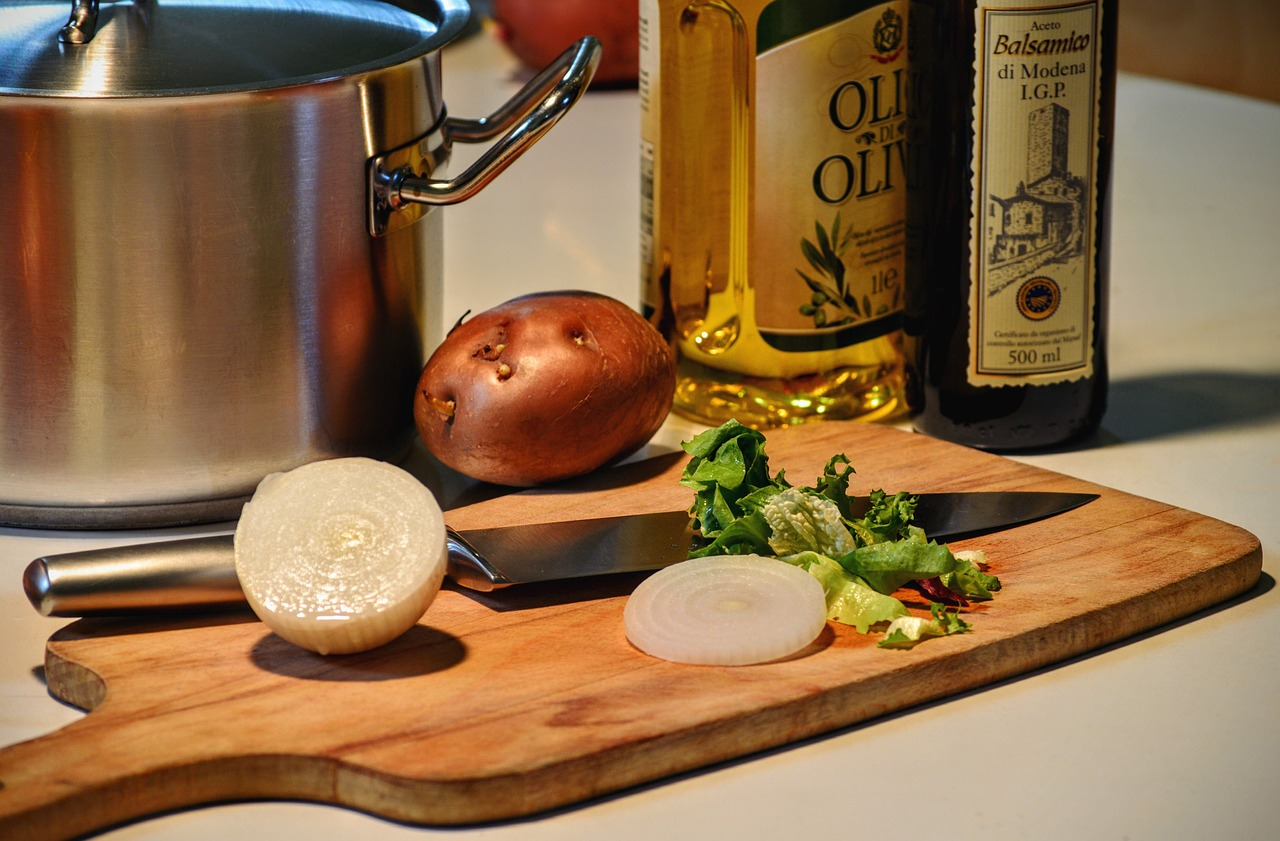knife: (14, 482, 1111, 618)
